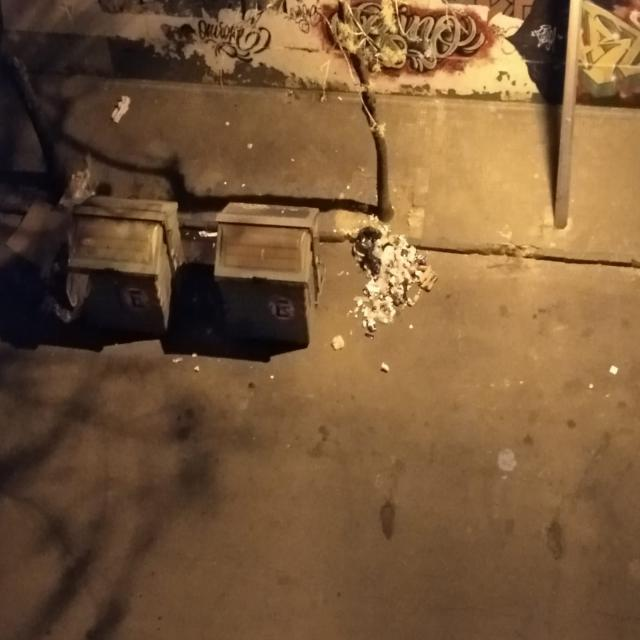garbage: (42, 148, 484, 440)
